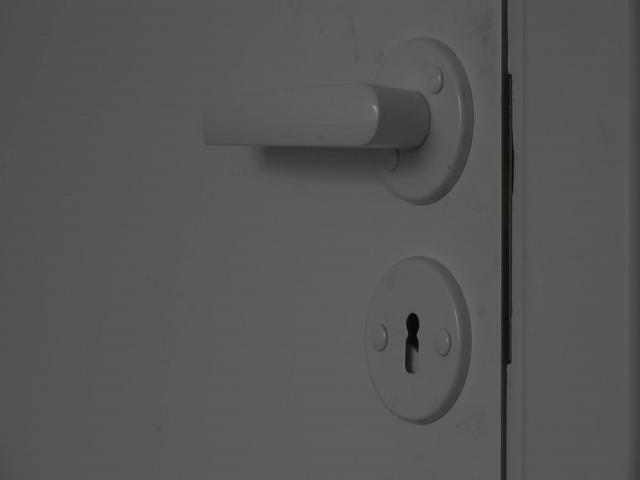Door-handle: (203, 38, 475, 206)
